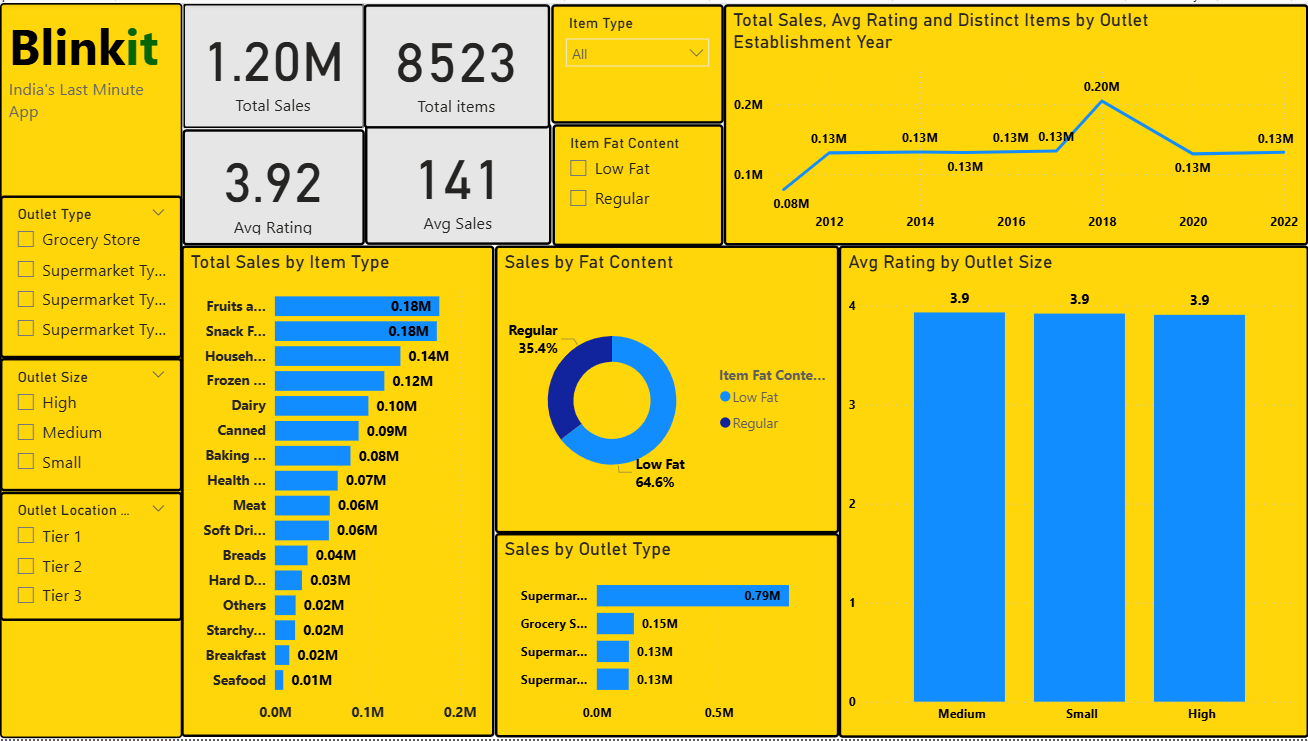

Layout of this report page (visuals, bound fields, positions):
{"tool":"powerbi","page":{"name":"Page 1","canvas":[1280,720],"ordinal":0},"visuals":[{"type":"textbox","box":[0,0,178.1,719.4],"z":0},{"type":"card","fields":{"Values":["BlinkIT_Sales.Total Sales"]},"box":[178.1,0,178.1,123.4],"z":1000},{"type":"card","fields":{"Values":["BlinkIT_Sales.Avg Sales"]},"box":[357.6,117.8,182.3,119.2],"z":2000},{"type":"card","fields":{"Values":["BlinkIT_Sales.Average Rating"]},"box":[178.1,123.4,178.1,113.6],"z":3000},{"type":"card","fields":{"Values":["BlinkIT_Sales.Total items"]},"box":[356.2,1.4,182.3,122],"z":4000},{"type":"clusteredBarChart","fields":{"Category":["BlinkIT_Sales.Item Type"],"Y":["BlinkIT_Sales.Total Sales"]},"box":[177.9,237.6,306.2,481.1],"z":5000},{"type":"donutChart","title":"Sales by Fat Content","fields":{"Category":["BlinkIT_Sales.Item Fat Content"],"Y":["BlinkIT_Sales.Total Sales"]},"box":[484,237.6,336.8,281.4],"z":6000},{"type":"clusteredBarChart","title":"Sales by Outlet Type","fields":{"Category":["BlinkIT_Sales.Outlet Type"],"Y":["BlinkIT_Sales.Total Sales"]},"box":[484,519,336.8,199.7],"z":7000},{"type":"funnel","fields":{"Y":["BlinkIT_Sales.Average Rating"],"Category":["BlinkIT_Sales.Outlet Location Type"]},"box":[820.6,237.4,459.7,481.6],"z":8000},{"type":"lineChart","fields":{"Category":["BlinkIT_Sales.Outlet Establishment Year"],"Y":["BlinkIT_Sales.Total Sales"]},"box":[708.1,1.4,572.2,236],"z":8001},{"type":"slicer","fields":{"Values":["BlinkIT_Sales.Outlet Type"]},"box":[0,188,178.4,159.2],"z":8002},{"type":"slicer","fields":{"Values":["BlinkIT_Sales.Item Fat Content"]},"box":[540.7,118,167.4,119.4],"z":8007},{"type":"slicer","fields":{"Values":["BlinkIT_Sales.Item Type"]},"box":[539.3,1.4,168.8,116.6],"z":8008},{"type":"slicer","fields":{"Values":["BlinkIT_Sales.Outlet Location Type"]},"box":[0,477.5,178.4,126.2],"z":8009},{"type":"slicer","fields":{"Values":["BlinkIT_Sales.Outlet Size"]},"box":[0,347.2,178.4,130.4],"z":8010},{"type":"actionButton","box":[0,0,100,40],"z":8011}]}

Visuals, with their boxes in screenshot pixels (x1, y1, x2, y2), scaled from the page's 1280x720 canvas onto the 1308x741 screenshot:
textbox: locate(0, 0, 182, 740)
card - BlinkIT_Sales.Total Sales: locate(182, 0, 364, 127)
card - BlinkIT_Sales.Avg Sales: locate(365, 121, 552, 244)
card - BlinkIT_Sales.Average Rating: locate(182, 127, 364, 244)
card - BlinkIT_Sales.Total items: locate(364, 1, 550, 127)
clusteredBarChart - BlinkIT_Sales.Item Type x BlinkIT_Sales.Total Sales: locate(182, 245, 495, 740)
"Sales by Fat Content" donutChart: locate(495, 245, 839, 534)
"Sales by Outlet Type" clusteredBarChart: locate(495, 534, 839, 740)
funnel - BlinkIT_Sales.Average Rating x BlinkIT_Sales.Outlet Location Type: locate(839, 244, 1307, 740)
lineChart - BlinkIT_Sales.Outlet Establishment Year x BlinkIT_Sales.Total Sales: locate(724, 1, 1307, 244)
slicer - BlinkIT_Sales.Outlet Type: locate(0, 193, 182, 357)
slicer - BlinkIT_Sales.Item Fat Content: locate(553, 121, 724, 244)
slicer - BlinkIT_Sales.Item Type: locate(551, 1, 724, 121)
slicer - BlinkIT_Sales.Outlet Location Type: locate(0, 491, 182, 621)
slicer - BlinkIT_Sales.Outlet Size: locate(0, 357, 182, 492)
actionButton: locate(0, 0, 102, 41)
